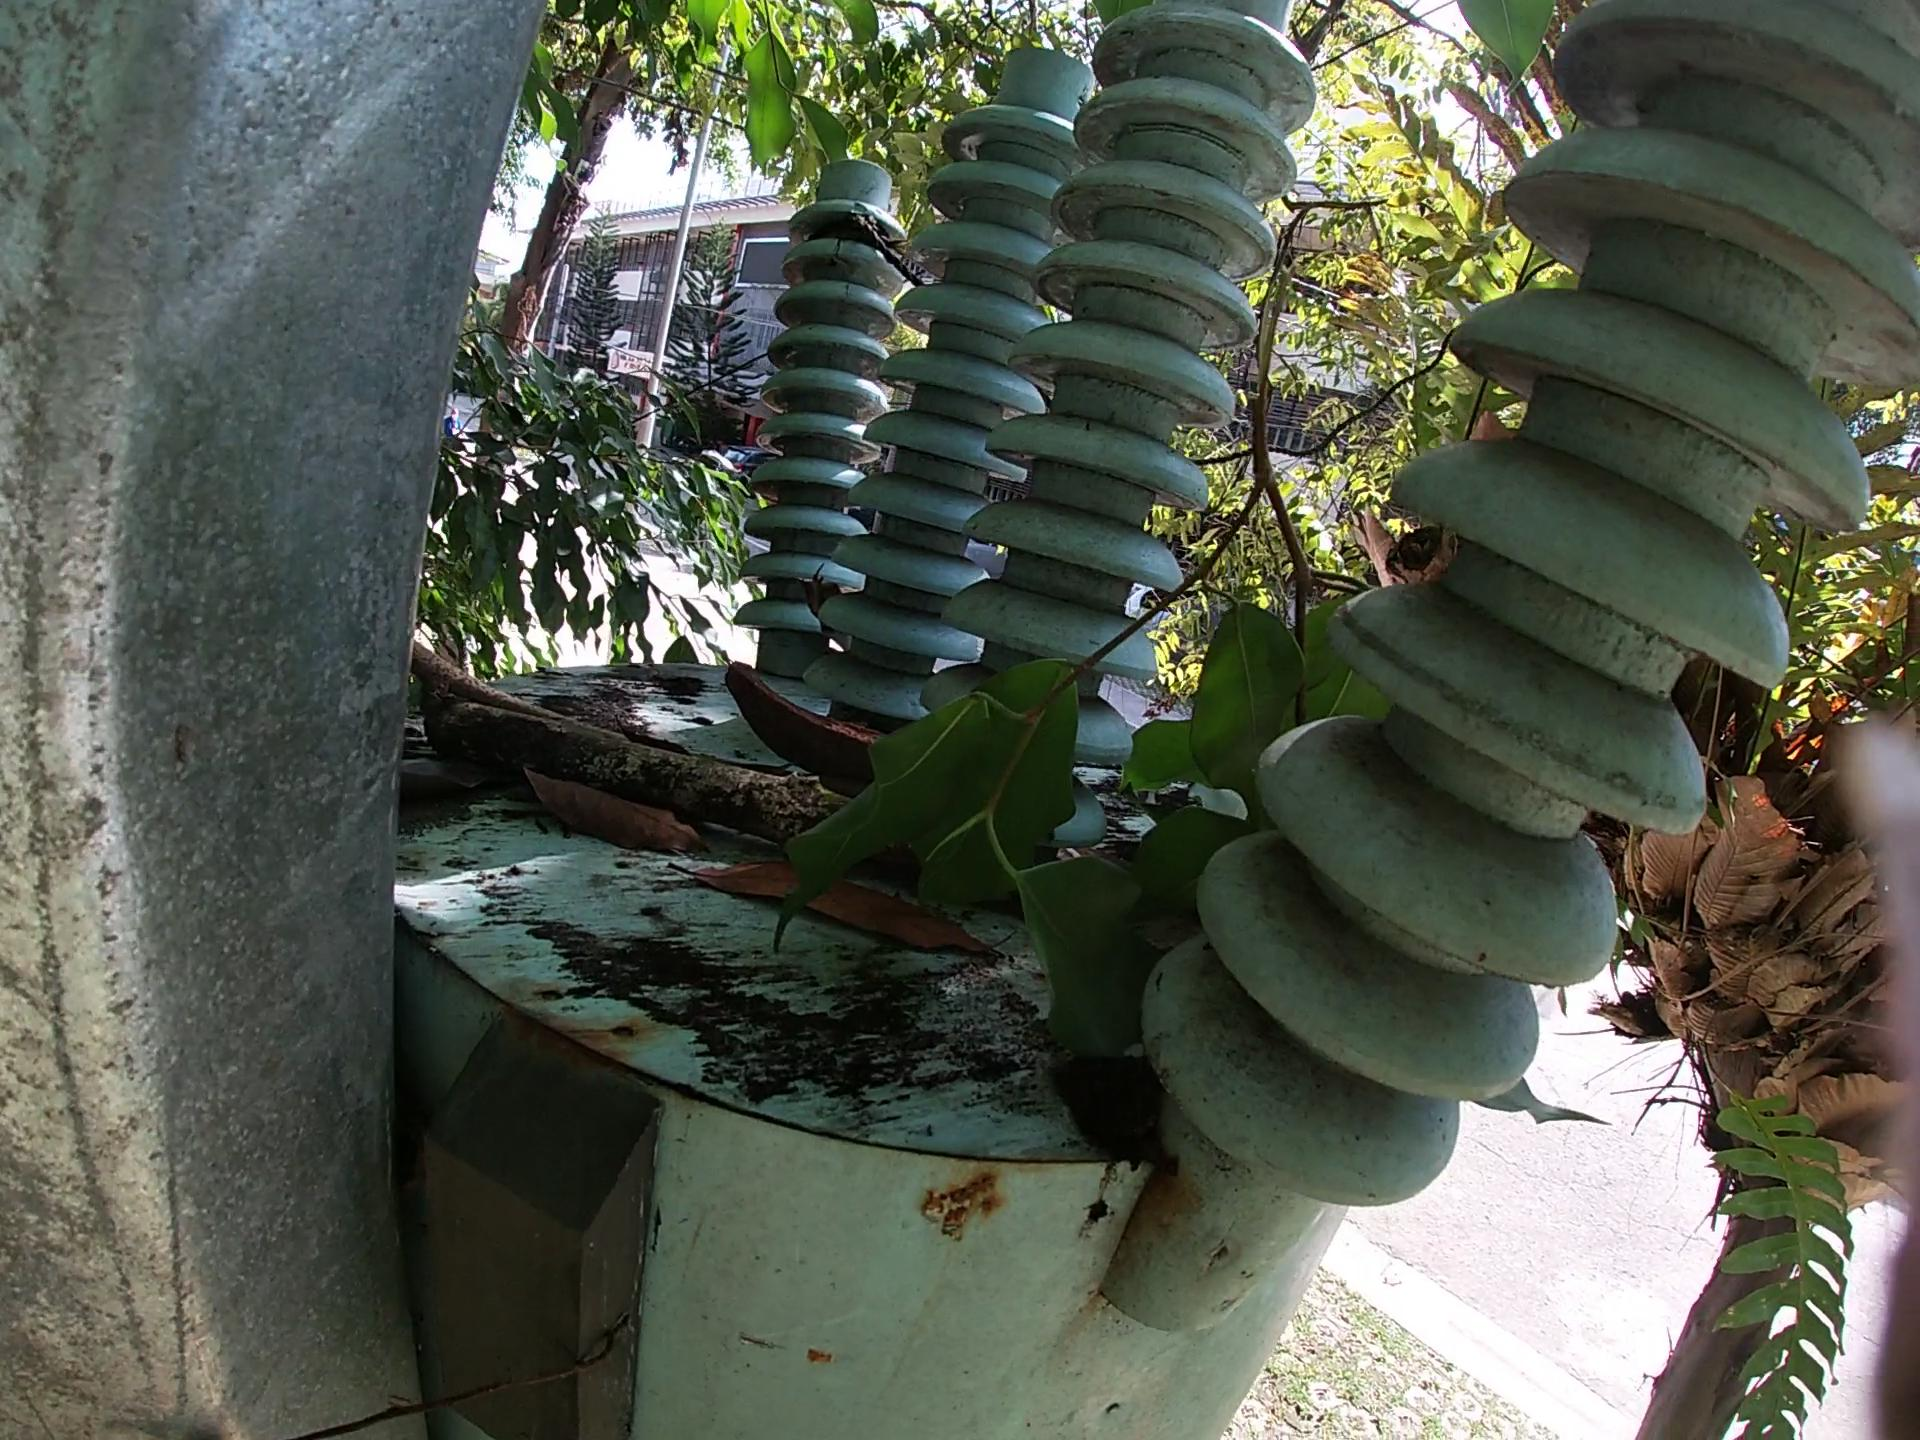branch with leaves: (756, 159, 1404, 1234)
leaf: (689, 874, 980, 985), (1435, 1051, 1621, 1150), (516, 765, 703, 850), (367, 759, 481, 802)
mahogany fruit: (730, 653, 884, 771)
tree branch: (422, 708, 835, 824), (405, 641, 584, 712)
